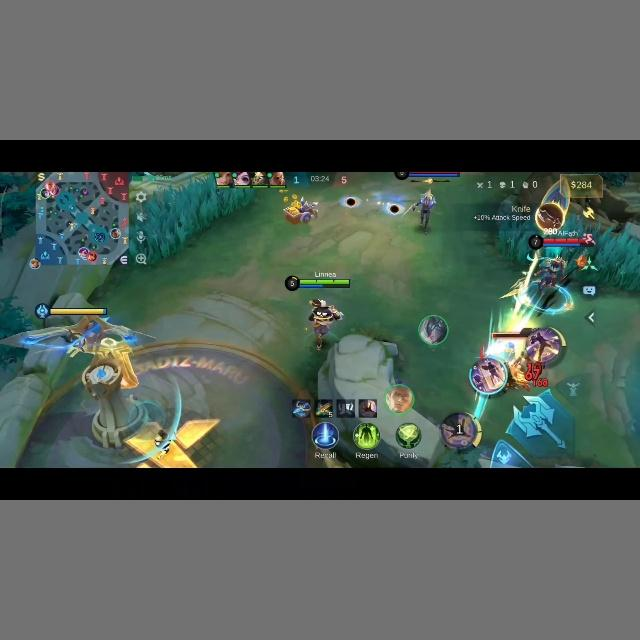hero_enemy: (531, 255, 566, 304), (411, 189, 436, 236)
hero_self: (307, 298, 343, 351)
hp_enemy: (526, 234, 594, 250), (394, 171, 459, 180)
hp_self: (33, 304, 112, 319), (283, 275, 353, 289)
minion_ally: (283, 197, 318, 224)
money_crab: (498, 274, 534, 310), (506, 352, 533, 392)
turret_ally: (74, 333, 141, 392)
